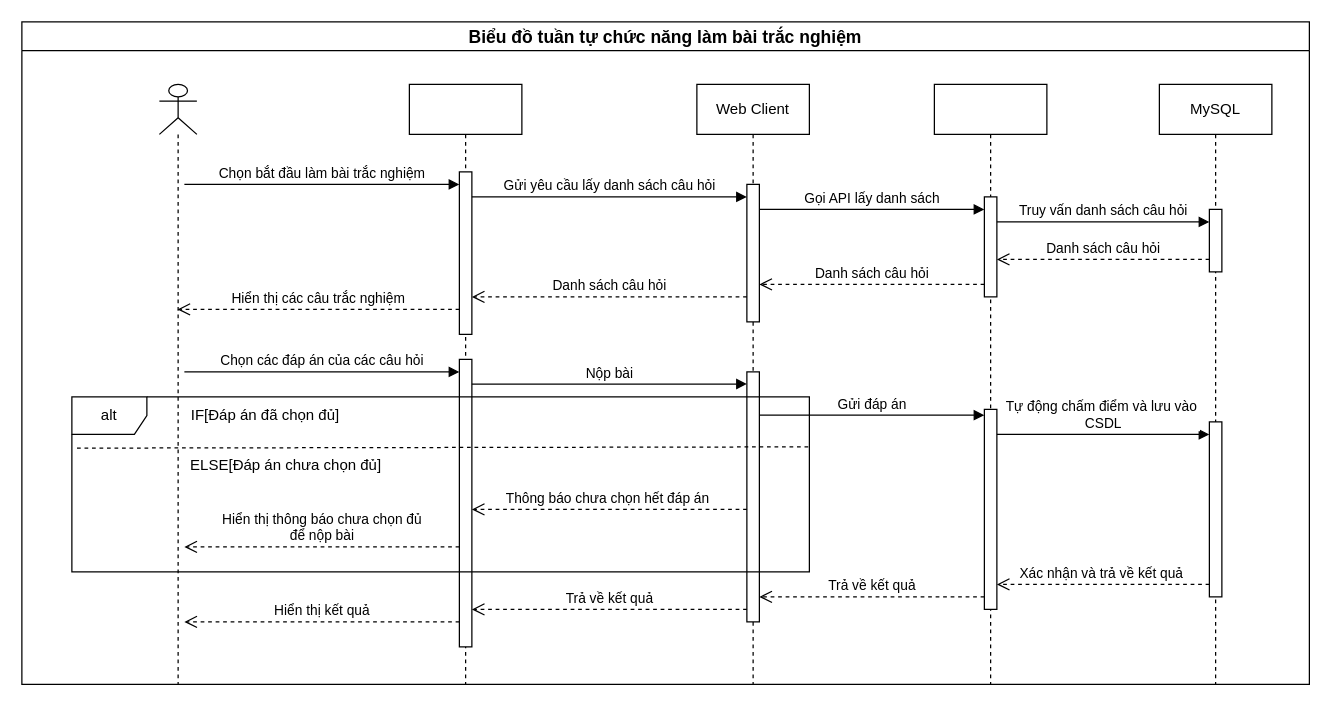
The diagram is 1331 pixels wide and 706 high, and some of its shapes have lost their labels. The shapes that lost their labels are listed below. From the top down, each one's box as (x1, y1, x2, y2) in pixels, then its label:
(408, 83, 522, 684): Giao diện
(933, 83, 1047, 684): Web API
